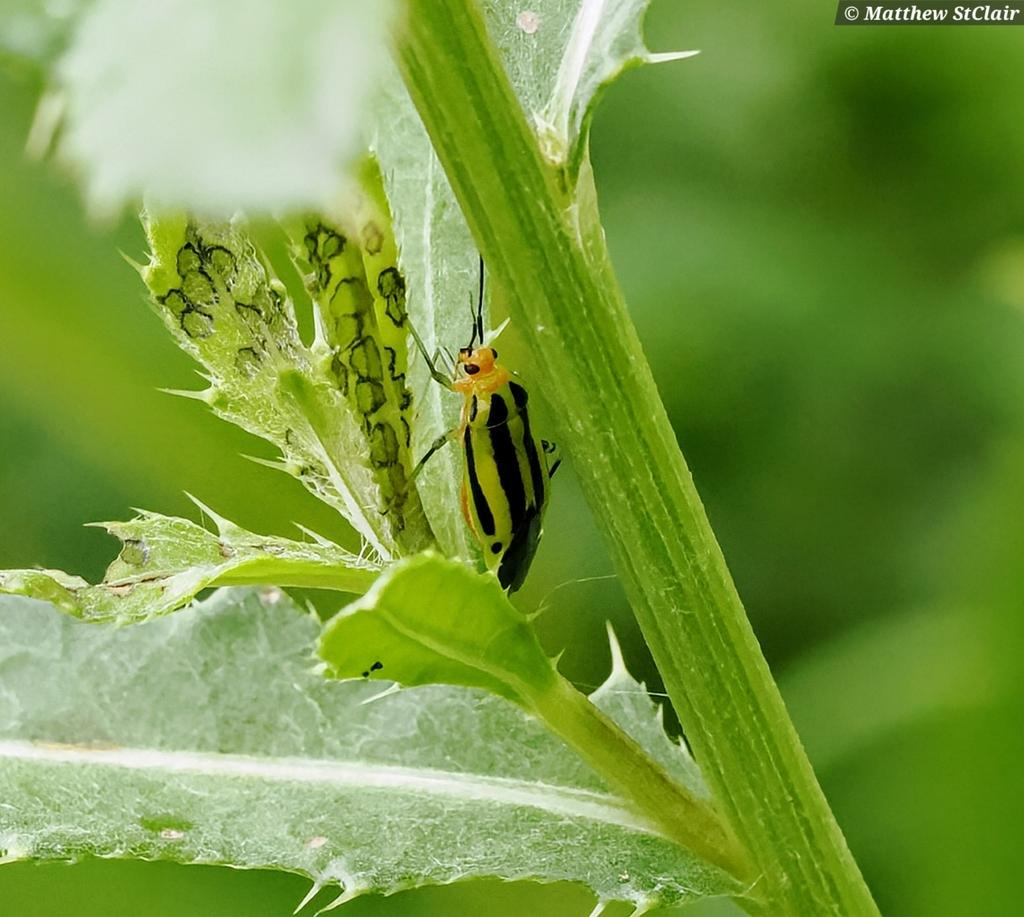plant_bugs: (353, 234, 621, 631)
